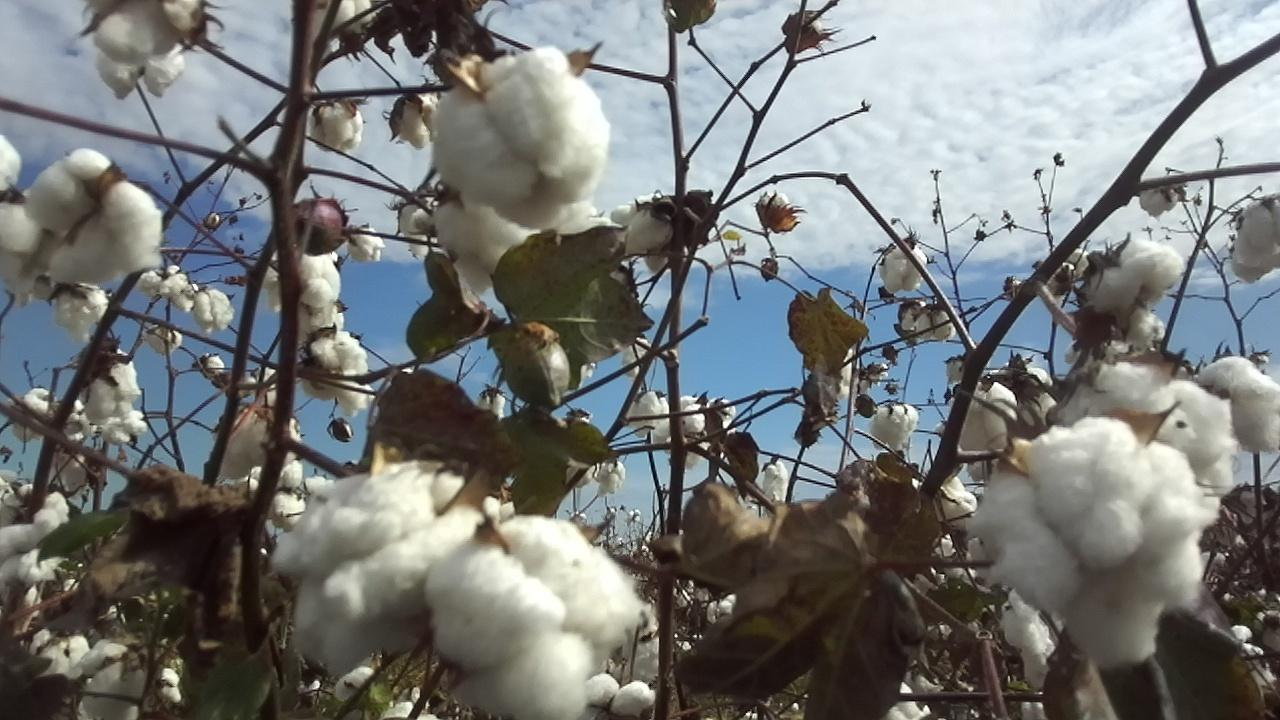cotton_ready: (977, 417, 1220, 662), (431, 462, 644, 720), (272, 464, 505, 672), (431, 48, 612, 230), (1062, 357, 1280, 493), (29, 153, 165, 284), (25, 624, 150, 720), (1081, 239, 1187, 345), (96, 0, 199, 99), (950, 364, 1064, 450), (627, 391, 734, 467), (0, 494, 72, 585), (299, 331, 375, 417), (0, 134, 39, 299), (265, 250, 345, 330), (604, 191, 679, 260), (81, 346, 141, 424), (1229, 195, 1280, 282), (309, 99, 365, 150), (53, 286, 107, 332), (397, 94, 441, 150), (900, 306, 960, 342)
